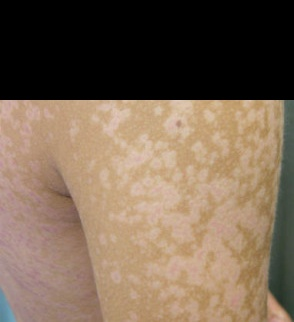SJS-TEN: (78, 91, 282, 322), (0, 99, 60, 322)
